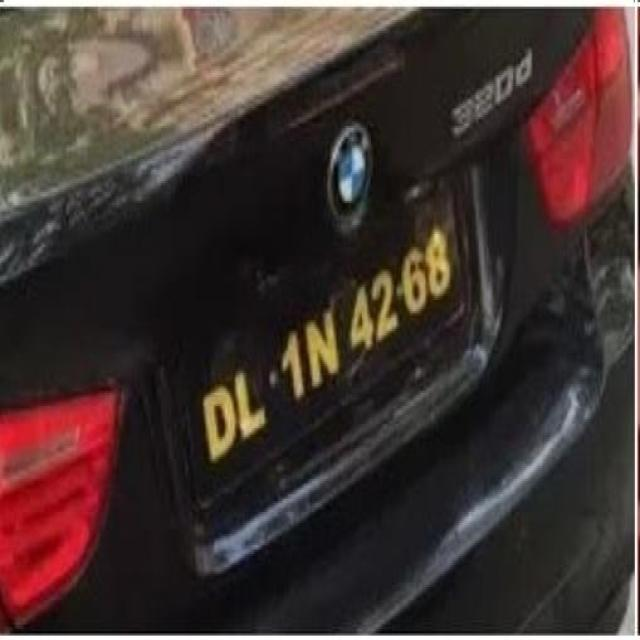number_plate: (162, 221, 511, 479)
